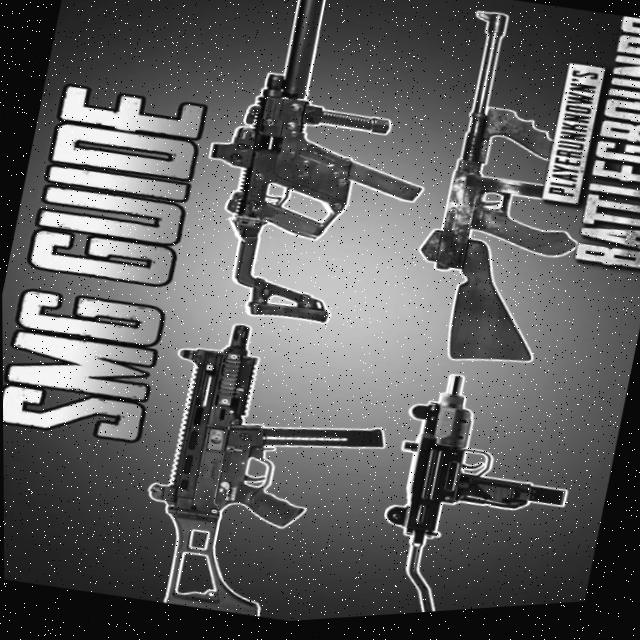firearm: (172, 0, 460, 354), (119, 306, 399, 634), (402, 6, 623, 389), (355, 362, 586, 622)
